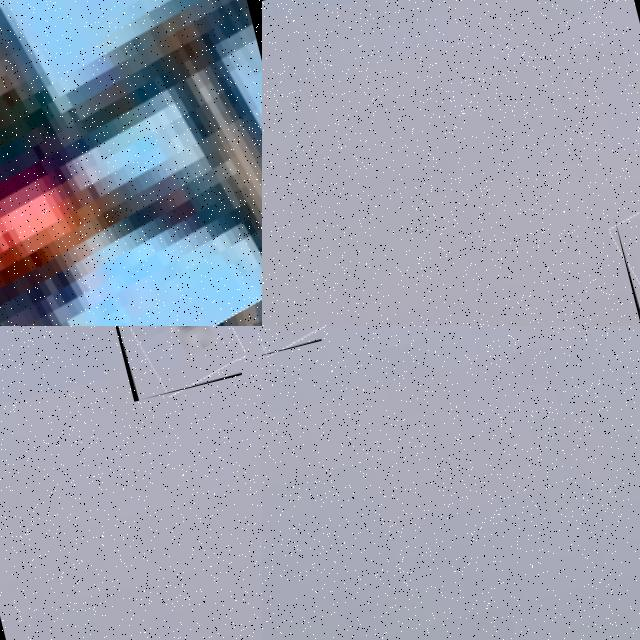drone: (0, 0, 262, 326), (92, 326, 242, 401), (613, 197, 640, 326)
